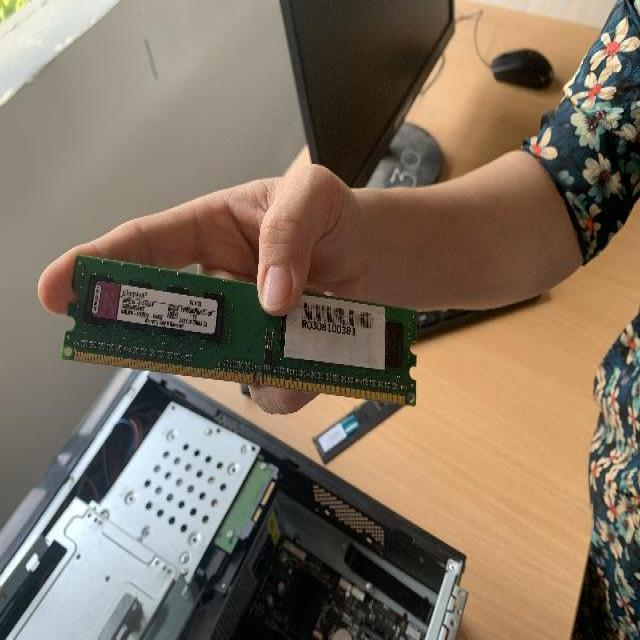RAM: (57, 249, 419, 410)
